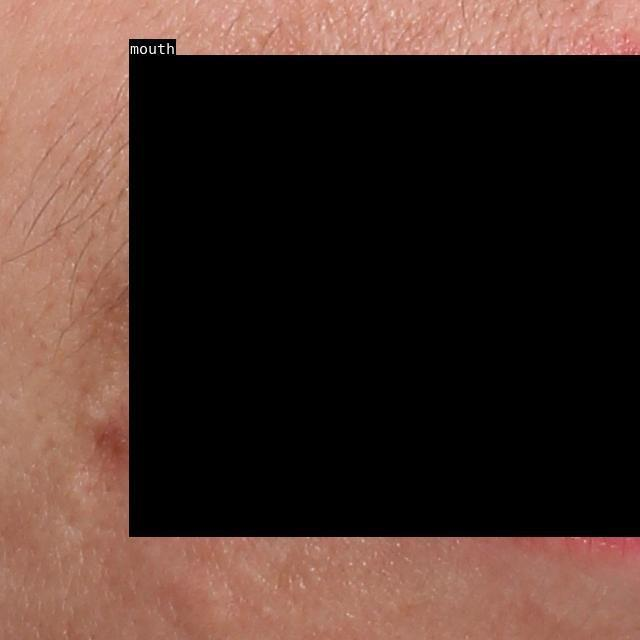hypertrophic_scar: (34, 472, 95, 570)
